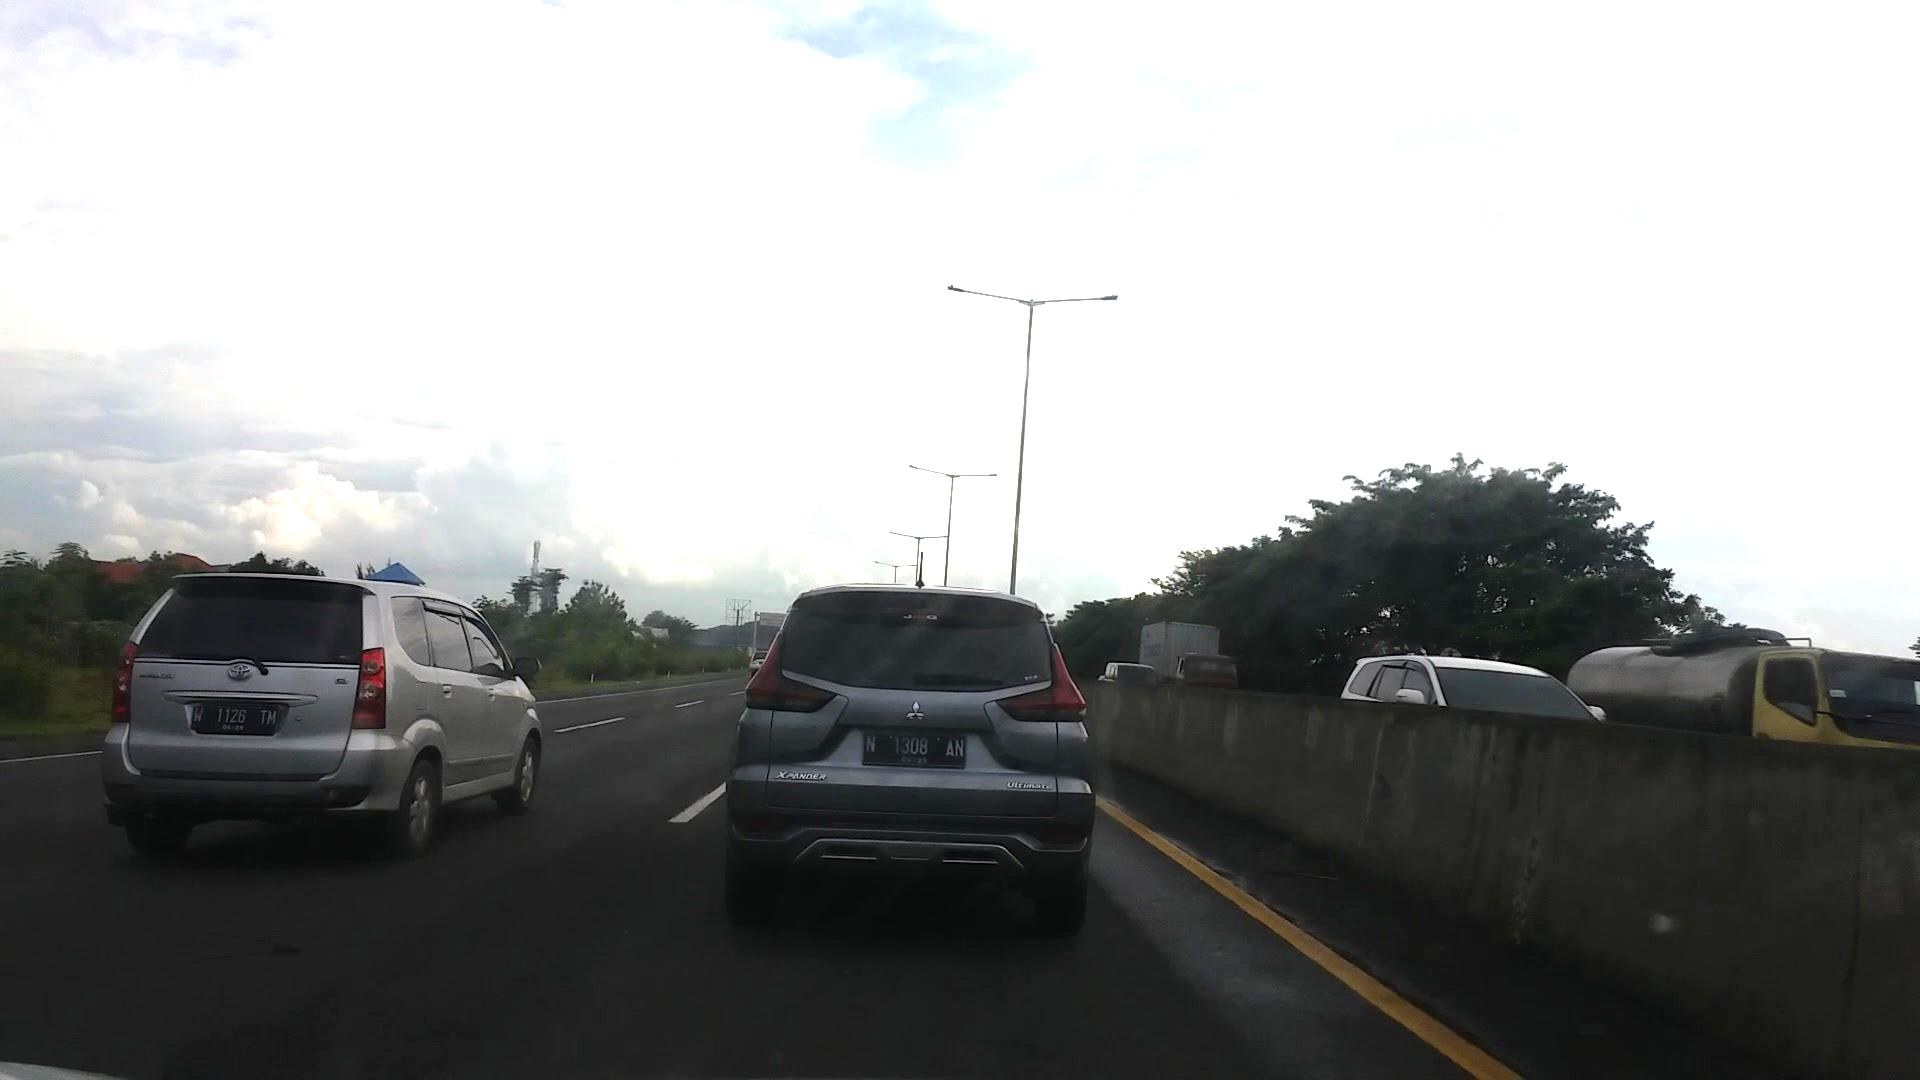plate_positive: (862, 732, 967, 770), (191, 703, 278, 735)
